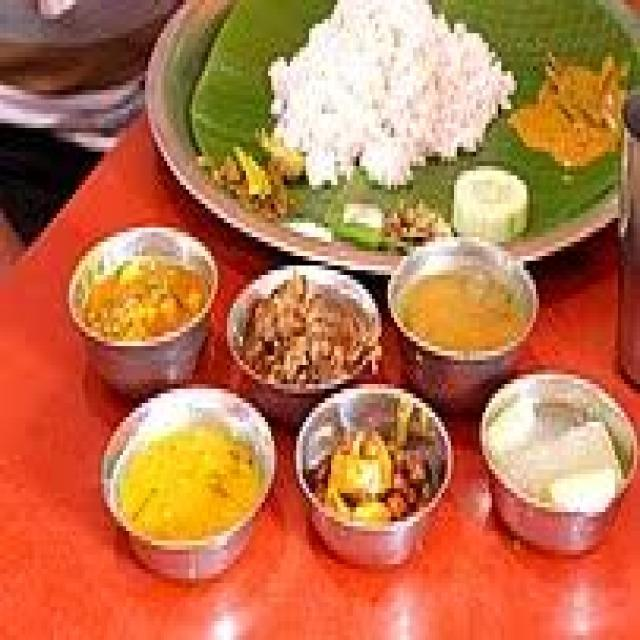dal: (122, 398, 261, 549), (69, 230, 216, 355)
rice: (282, 12, 429, 195)
sambar-rasam: (392, 245, 535, 365)
sweet: (302, 389, 450, 546), (480, 378, 633, 522)
veg-fry: (72, 231, 213, 352)
